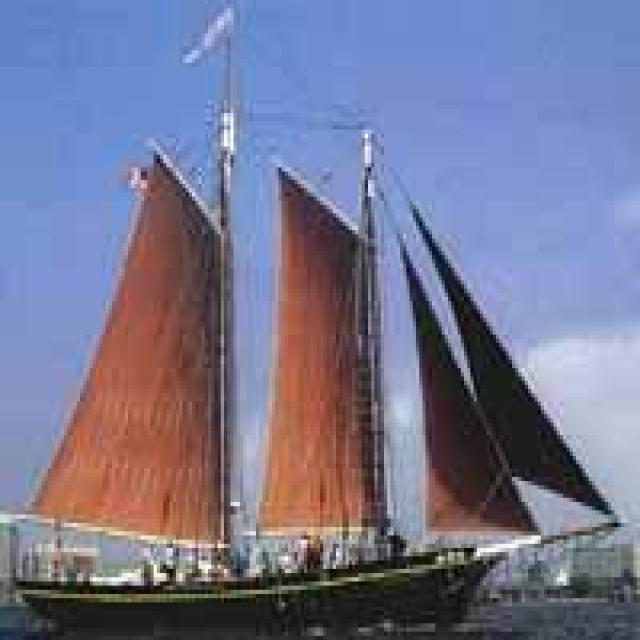Ship: (20, 97, 622, 640)
